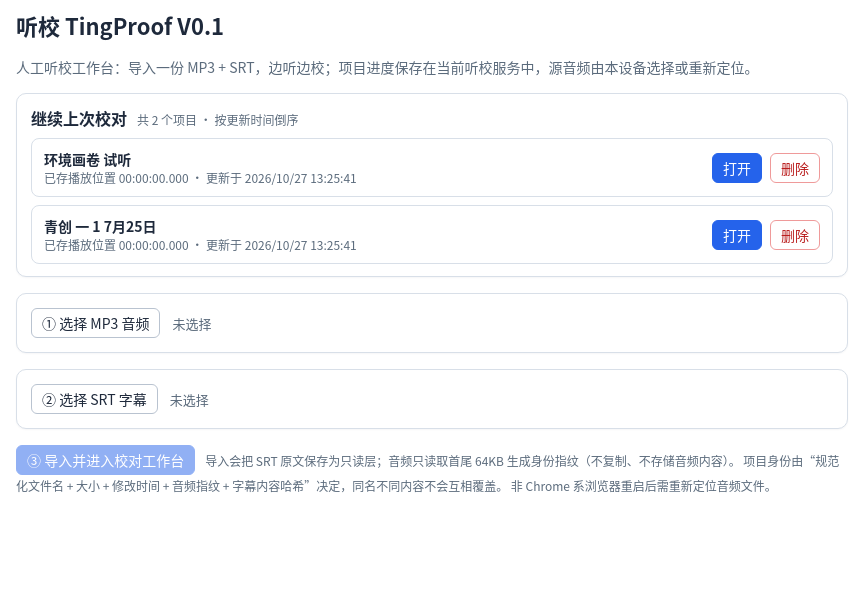
ImportScreen 删除历史记录（AC-066） › 确认只删目标项：其他项目保留，列表总数递减，后端行消失，不整页刷新
This screenshot has width=865, height=595.
Click the button with aria-label "删除 环境画卷 试听" at (795, 168), box [770, 152, 820, 182]
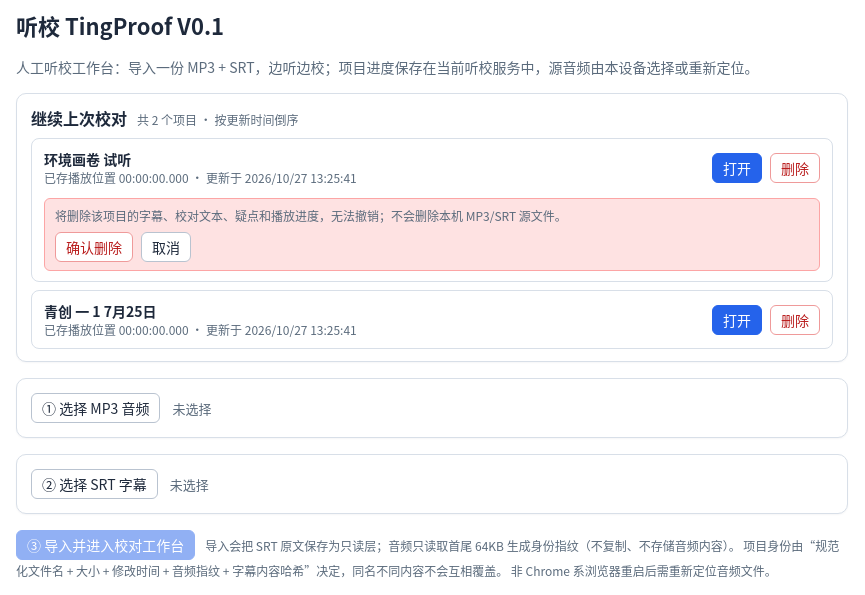
Click the button with aria-label "确认删除 环境画卷 试听" at (94, 247), box [55, 232, 133, 262]
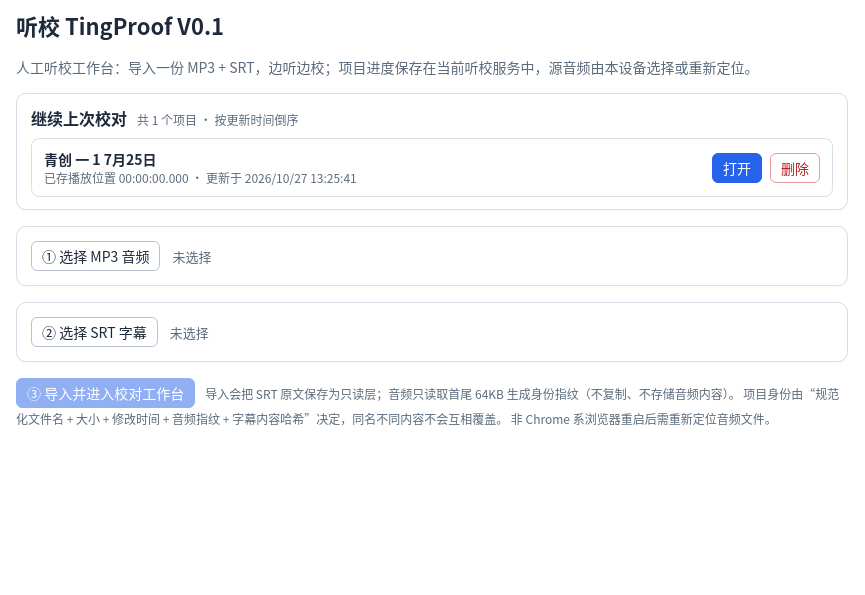
Expected: the button with aria-label "打开 青创 一 1 7月25日" is shown, [712, 152, 762, 182]
Now the number of list items is 1, box [31, 138, 833, 197]
Now the text "共 1 个项目 · 按更新时间倒序" is shown, box [137, 111, 298, 128]
